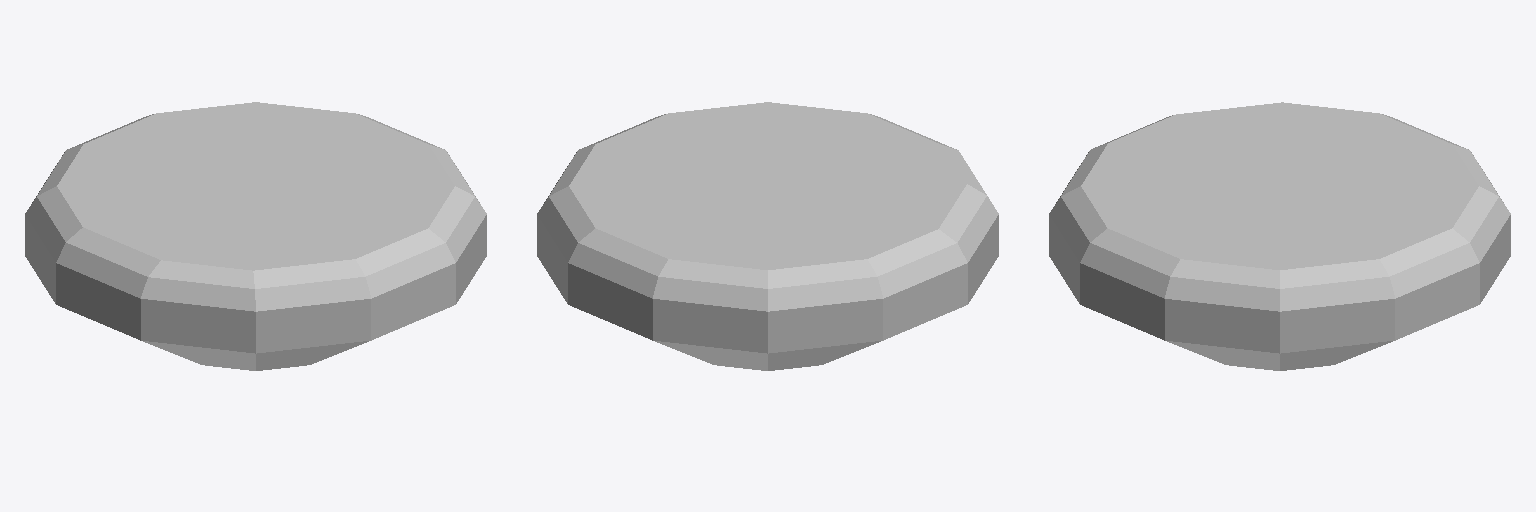
The model's file is turret_wheel_collision.obj.
The picture shows the model from 3 angles: view 1: azimuth 30°, elevation 25°; view 2: azimuth 150°, elevation 25°; view 3: azimuth 270°, elevation 25°; orthographic projection.
Parts seen in each view (by area): view 1: Ручка; view 2: Ручка; view 3: Ручка.
Boxes of the visible parts, x1=… form: Ручка: x1=25, y1=102, x2=486, y2=370; Ручка: x1=537, y1=102, x2=998, y2=370; Ручка: x1=1049, y1=102, x2=1510, y2=370.
Size of the model in its own units: 0.994 by 0.3313 by 0.994.